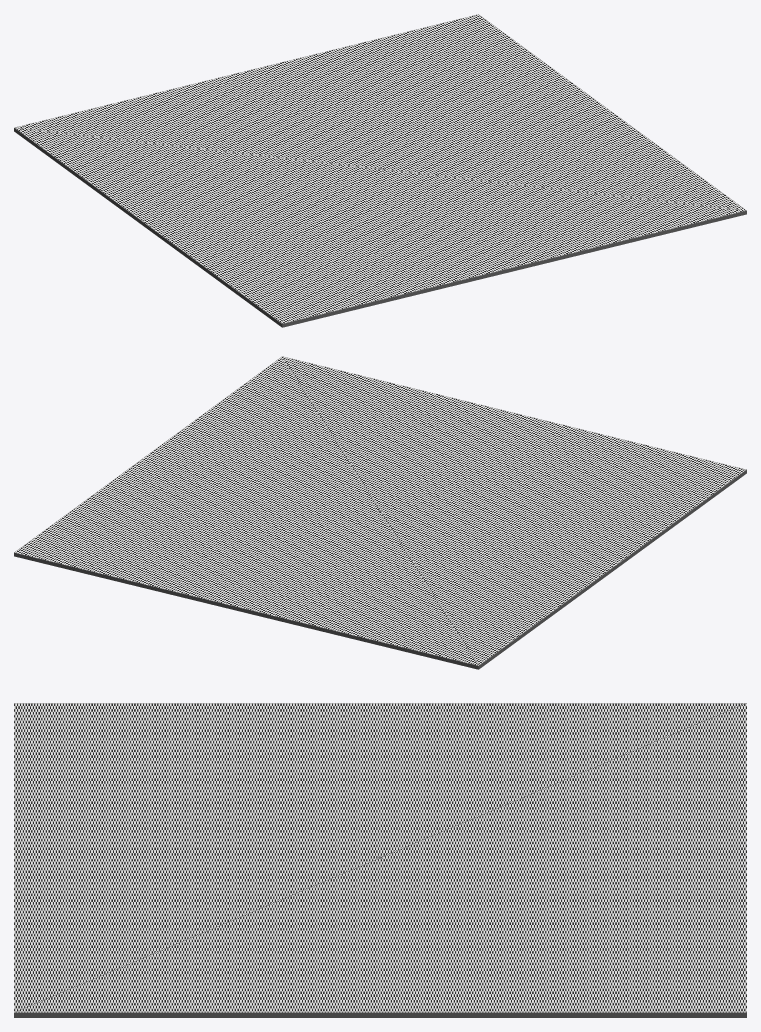
Rendered from acessorio5.gltf.
3 renders of one model, top to bottom at view 1: azimuth 30°, elevation 25°; view 2: azimuth 150°, elevation 25°; view 3: azimuth 270°, elevation 25°, orthographic. The views are drawn at different scales.
Visible parts, largest first — view 1: Texture, Baseplate; view 2: Texture, Baseplate; view 3: Texture, Baseplate.
Boxes of the visible parts, <box> form: Texture: <box>14,14,746,323</box>; Baseplate: <box>14,128,746,327</box>; Texture: <box>14,356,746,665</box>; Baseplate: <box>14,470,746,669</box>; Texture: <box>14,703,746,1012</box>; Baseplate: <box>14,1012,746,1017</box>.
Bounding box in the file's own units: 2048 × 555 × 2048.
Materials: 5 (2 with a texture image).
